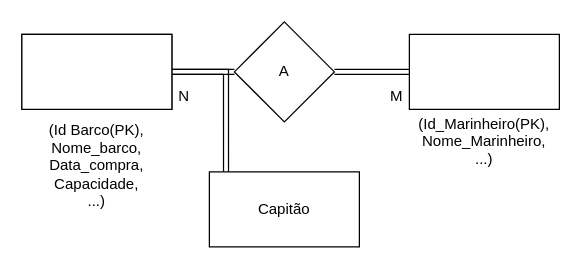
The diagram is 581 pixels wide and 269 high, and some of its shapes have lost their labels. The centre of each missing label's shape, as x and y in pixels:
"Barco" belongs at point 96,71.
"Marinhero" belongs at point 483,71.
